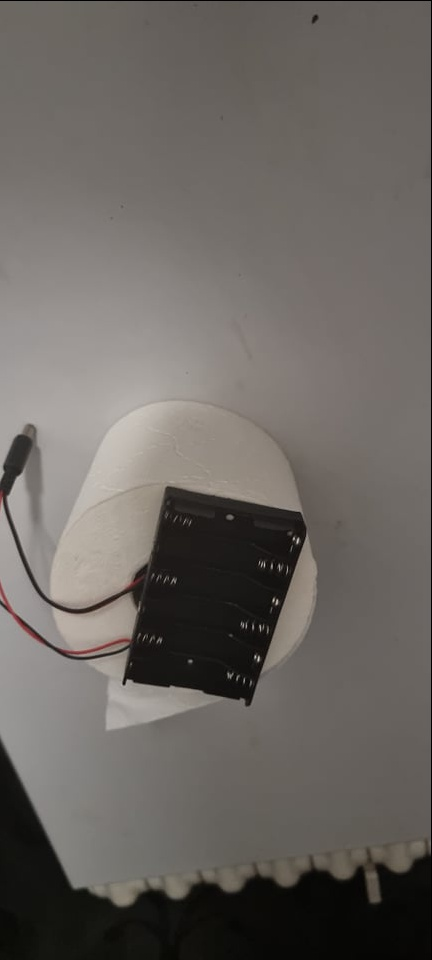BATTERY BOX: (120, 481, 316, 706)
